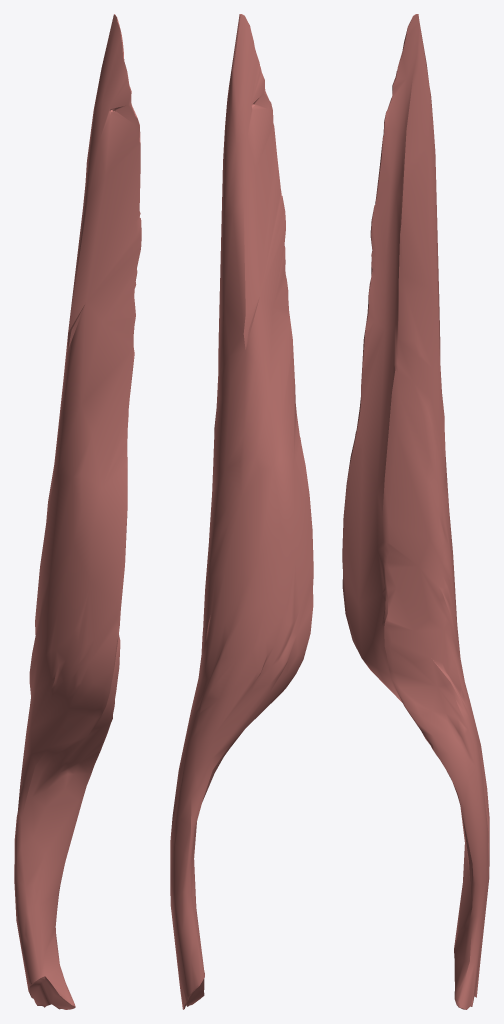
The model's file is fma45892_mm1649.glb.
3 views of the same model, side by side, from view 1: azimuth 90°, elevation 25°; view 2: azimuth 150°, elevation 25°; view 3: azimuth 330°, elevation 25° (orthographic). The views are drawn at different scales.
Visible parts, largest first — view 1: FMA45892_MM1649; view 2: FMA45892_MM1649; view 3: FMA45892_MM1649.
Boxes of the visible parts, x1,y1,x2,y2 form: FMA45892_MM1649: (14, 14, 141, 1009); FMA45892_MM1649: (170, 14, 313, 1009); FMA45892_MM1649: (342, 14, 489, 1009).
Bounding box in the file's own units: 0.0366 × 0.3184 × 0.0365.
